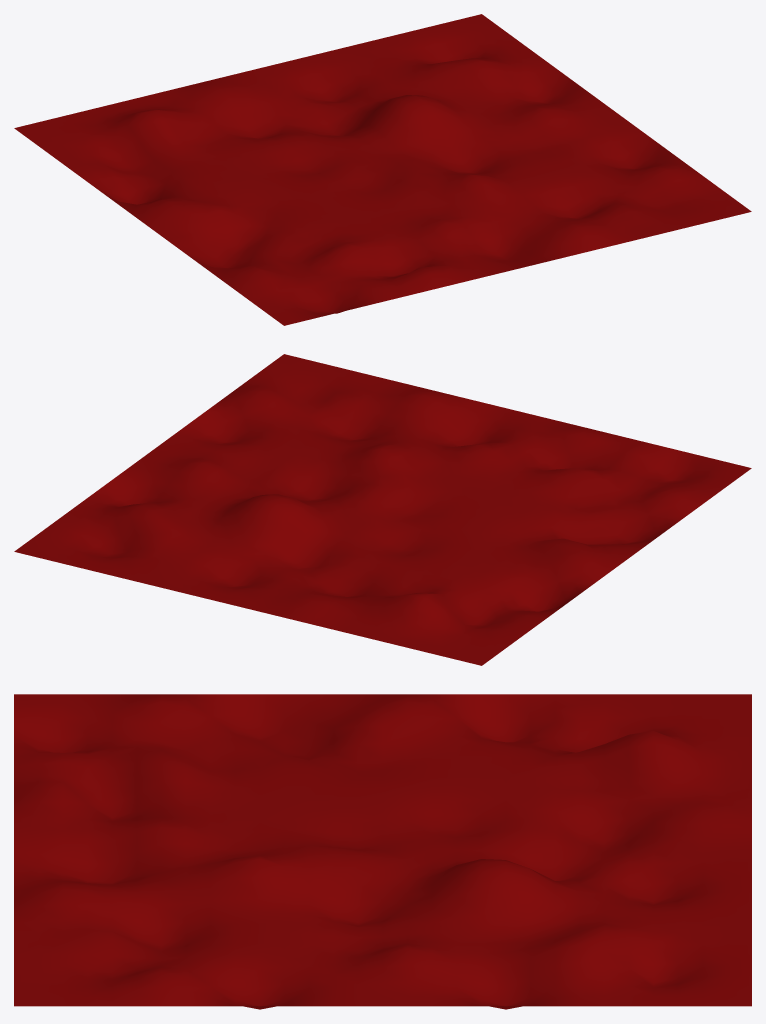
File: Ground.fbx
The picture shows the model from 3 angles, top to bottom: view 1: azimuth 30°, elevation 25°; view 2: azimuth 150°, elevation 25°; view 3: azimuth 270°, elevation 25°; orthographic projection. The views are drawn at different scales.
Parts seen in each view (by area): view 1: pPlane1; view 2: pPlane1; view 3: pPlane1.
Part boxes in pixels (left/top/right/bottom): pPlane1: left=14, top=14, right=751, bottom=325; pPlane1: left=14, top=354, right=751, bottom=665; pPlane1: left=14, top=694, right=751, bottom=1009.
Size of the model in its own units: 50 by 4.45 by 50.
